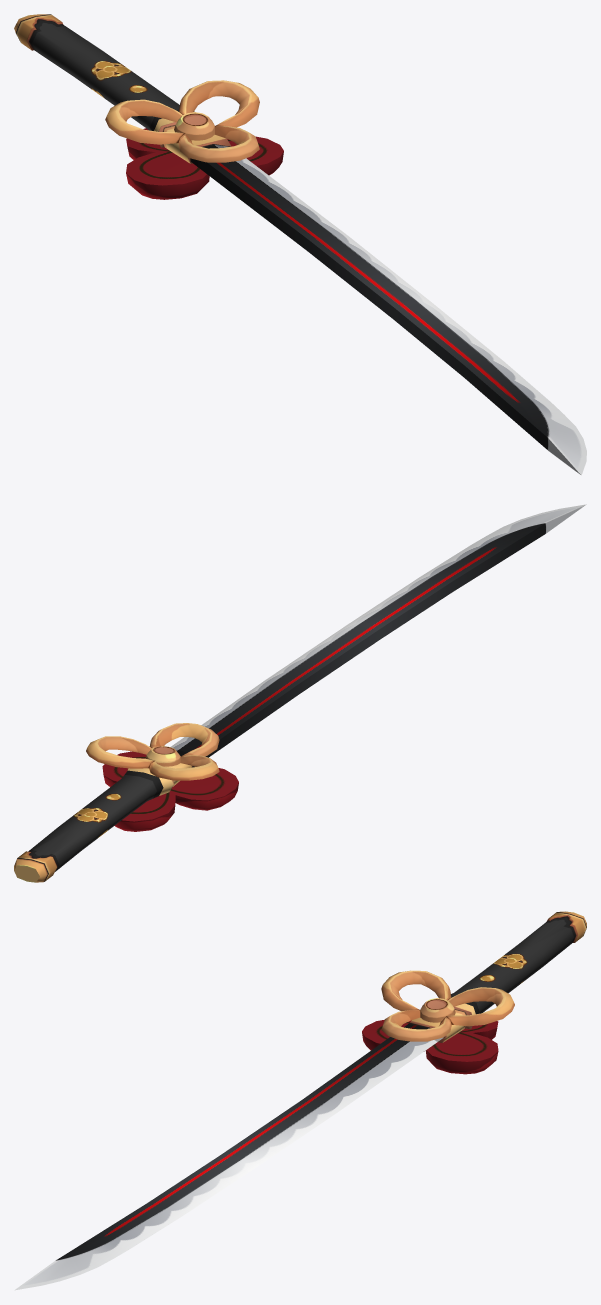
The model's file is Sword Big.glb.
The picture shows the model from 3 angles, top to bottom: view 1: azimuth 30°, elevation 25°; view 2: azimuth 150°, elevation 25°; view 3: azimuth 330°, elevation 25°; orthographic projection. The views are drawn at different scales.
Parts seen in each view (by area): view 1: SkillObj_Chiori_Sword_Big_LOD0; view 2: SkillObj_Chiori_Sword_Big_LOD0; view 3: SkillObj_Chiori_Sword_Big_LOD0.
Part boxes in pixels (box(x1,y1,x2,y2)): SkillObj_Chiori_Sword_Big_LOD0: box(14, 14, 586, 475); SkillObj_Chiori_Sword_Big_LOD0: box(14, 504, 586, 882); SkillObj_Chiori_Sword_Big_LOD0: box(14, 911, 586, 1290).
Bounding box in the file's own units: 0.1259 × 0.058 × 0.8994.
1 material, 1 textured.
